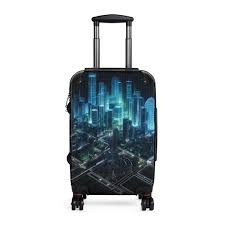suitcase: (66, 14, 159, 212)
